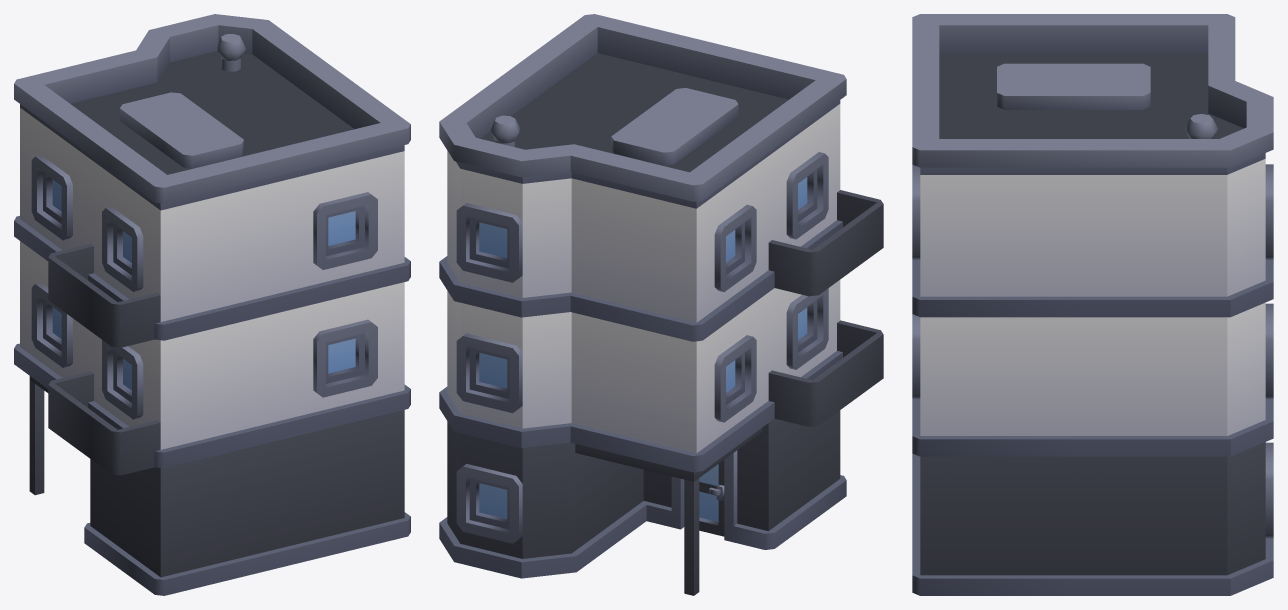
The model's file is building-b.glb.
3 renders of one model, left to right at view 1: azimuth 30°, elevation 25°; view 2: azimuth 150°, elevation 25°; view 3: azimuth 270°, elevation 25°, orthographic. The views are drawn at different scales.
Visible parts, largest first — view 1: building-b; view 2: building-b; view 3: building-b.
Part boxes in pixels (bbox=[...]): building-b: bbox=[14, 14, 410, 595]; building-b: bbox=[439, 14, 883, 595]; building-b: bbox=[912, 14, 1273, 595].
Bounding box in the file's own units: 0.9702 × 1.29 × 0.9399.
1 material, 1 textured.
